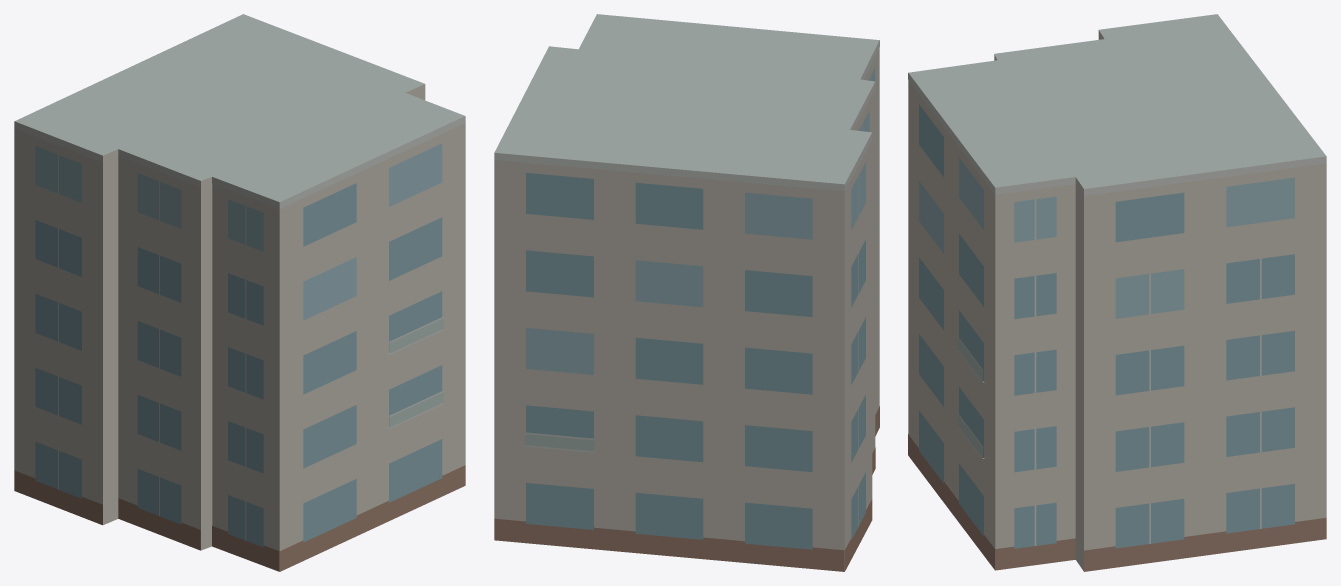
File: survey-upis-32543262.glb
3 views of the same model, side by side, from view 1: azimuth 30°, elevation 25°; view 2: azimuth 150°, elevation 25°; view 3: azimuth 270°, elevation 25° (orthographic). The views are drawn at different scales.
Parts seen in each view (by area): view 1: survey-upis-32543262.tmp; view 2: survey-upis-32543262.tmp; view 3: survey-upis-32543262.tmp.
Boxes of the visible parts, bbox=[...] form: survey-upis-32543262.tmp: bbox=[14, 14, 465, 571]; survey-upis-32543262.tmp: bbox=[494, 14, 879, 571]; survey-upis-32543262.tmp: bbox=[908, 14, 1326, 571].
Size of the model in its own units: 13.01 by 13.25 by 13.14.
